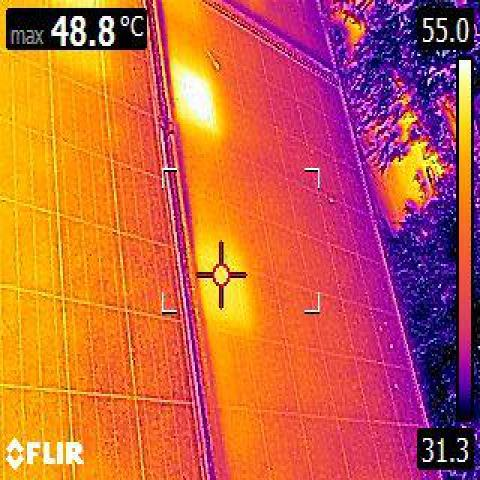fault: (176, 70, 218, 128)
